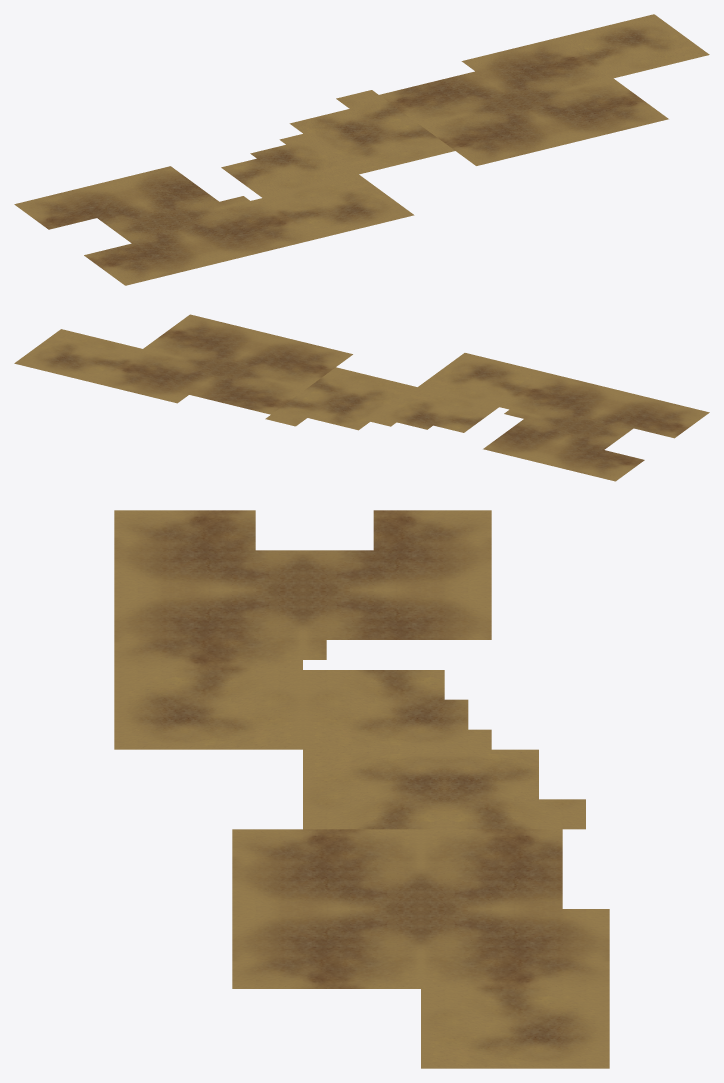
Rendered from Southern_Desert_2F_all.FBX.
The picture shows the model from 3 angles, top to bottom: view 1: azimuth 30°, elevation 25°; view 2: azimuth 150°, elevation 25°; view 3: azimuth 270°, elevation 25°; orthographic projection. The views are drawn at different scales.
Parts seen in each view (by area): view 1: Plane021, Plane033, Plane031, Plane018, Plane026, Plane027, Plane032, Plane029, Plane035, Plane025, Plane034, Plane030 (+1 smaller); view 2: Plane026, Plane021, Plane027, Plane018, Plane033, Plane031, Plane032, Plane029, Plane035, Plane025, Plane034, Plane030 (+1 smaller); view 3: Plane026, Plane027, Plane021, Plane018, Plane033, Plane031, Plane032, Plane029, Plane035, Plane034, Plane025, Plane030 (+1 smaller).
Boxes of the visible parts, x1,y1,x2,y2 form: Plane021: (558, 14, 709, 78); Plane033: (263, 174, 414, 238); Plane031: (166, 198, 317, 261); Plane018: (461, 37, 613, 101); Plane026: (421, 102, 572, 165); Plane027: (517, 78, 668, 142); Plane032: (84, 221, 221, 285); Plane029: (221, 134, 358, 197); Plane035: (14, 181, 165, 233); Plane025: (379, 71, 516, 125); Plane034: (318, 120, 454, 174); Plane030: (110, 166, 249, 221); Plane026: (225, 334, 352, 388); Plane021: (14, 329, 142, 383); Plane027: (143, 314, 271, 368); Plane018: (96, 349, 223, 403); Plane033: (418, 353, 545, 406); Plane031: (499, 372, 627, 426); Plane032: (581, 392, 709, 438); Plane029: (370, 387, 498, 432); Plane035: (534, 427, 644, 481); Plane025: (189, 369, 305, 414); Plane034: (300, 367, 417, 412); Plane030: (483, 409, 580, 461); Plane026: (232, 829, 420, 908); Plane027: (232, 909, 420, 988); Plane021: (421, 989, 609, 1068); Plane018: (421, 909, 609, 988); Plane033: (114, 670, 302, 749); Plane031: (114, 590, 302, 669); Plane032: (114, 510, 302, 589); Plane029: (303, 670, 491, 749); Plane035: (303, 510, 491, 589); Plane034: (303, 749, 444, 829); Plane025: (421, 829, 562, 908); Plane030: (303, 590, 491, 659).
Bounding box in the file's own units: 112 × 7.75e-05 × 42.
